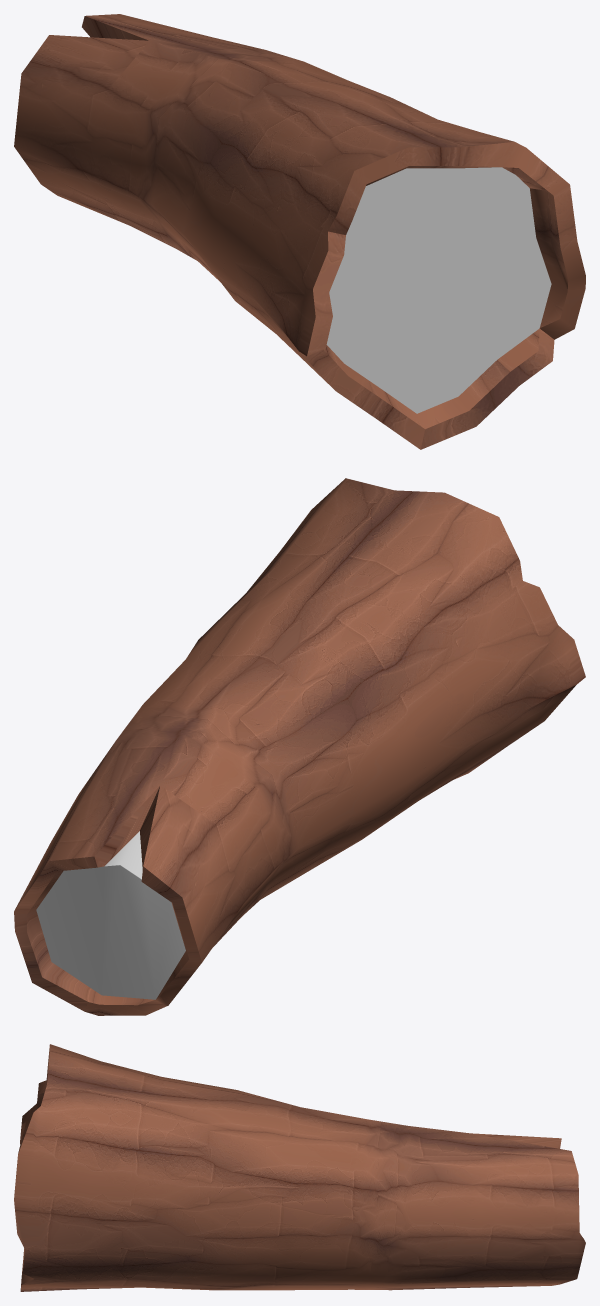
The model's file is Tree_Log_1.gltf.
3 views of the same model, one above another, from view 1: azimuth 30°, elevation 25°; view 2: azimuth 150°, elevation 25°; view 3: azimuth 270°, elevation 25° (orthographic). The views are drawn at different scales.
Visible parts, largest first — view 1: Tree_Log_1; view 2: Tree_Log_1; view 3: Tree_Log_1.
Boxes of the visible parts, x1,y1,x2,y2 form: Tree_Log_1: [14, 14, 585, 449]; Tree_Log_1: [14, 478, 585, 1015]; Tree_Log_1: [14, 1044, 585, 1291].
Size of what is drawn, in the model's own units: 0.8885 by 0.8682 by 2.
